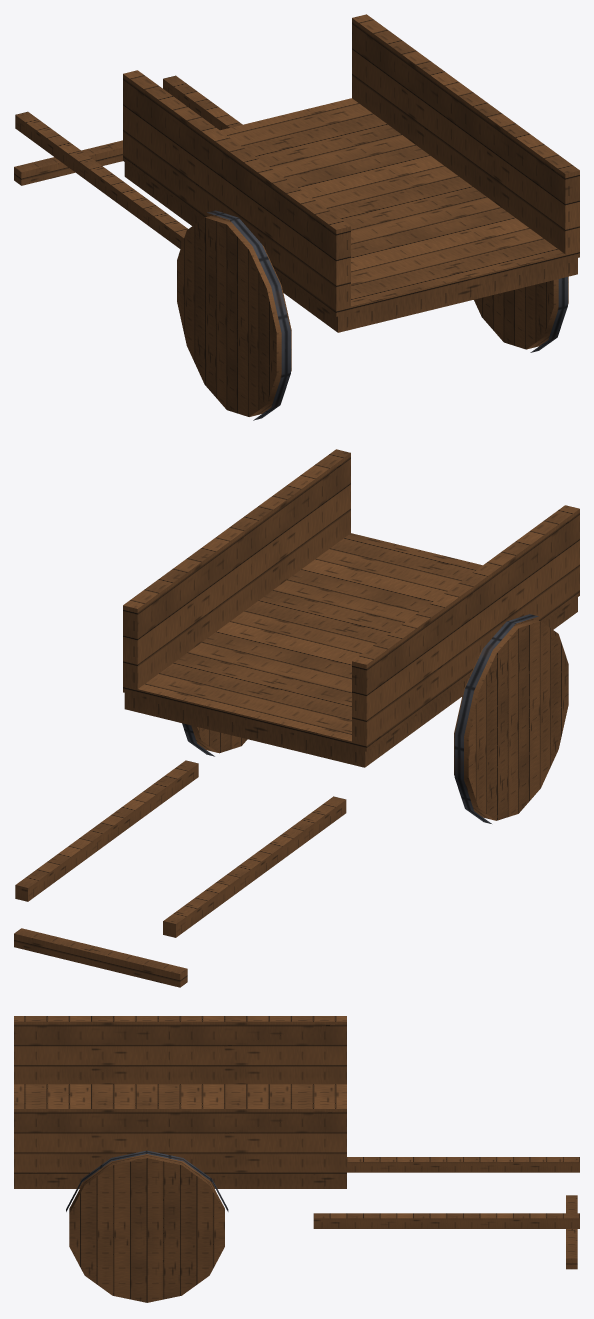
File: cart.glb
3 renders of one model, top to bottom at view 1: azimuth 30°, elevation 25°; view 2: azimuth 150°, elevation 25°; view 3: azimuth 270°, elevation 25°, orthographic. The views are drawn at different scales.
Parts seen in each view (by area): view 1: cart; view 2: cart; view 3: cart.
Boxes of the visible parts, <box> form: cart: <box>14,14,579,420</box>; cart: <box>14,449,579,987</box>; cart: <box>14,1016,579,1302</box>.
Size of the model in its own units: 1.58 by 1.25 by 3.4.
Materials: 2 (2 with a texture image).
